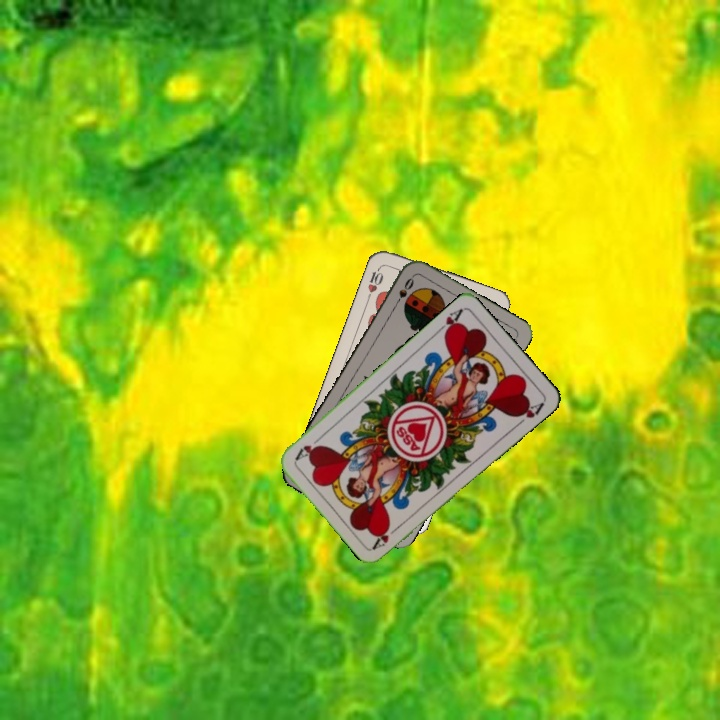H10: (363, 262, 386, 301)
HA: (432, 304, 465, 340), (369, 521, 403, 552)
SO: (390, 273, 417, 310)
